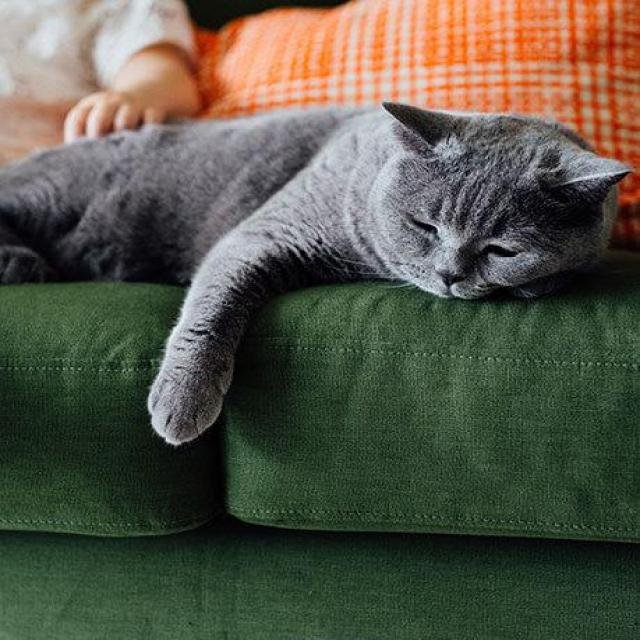Cat: (358, 91, 640, 312)
